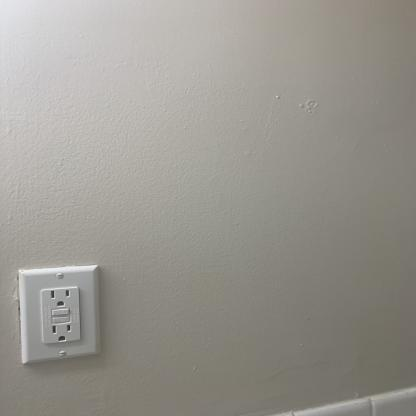OUTLET: (19, 267, 104, 360)
